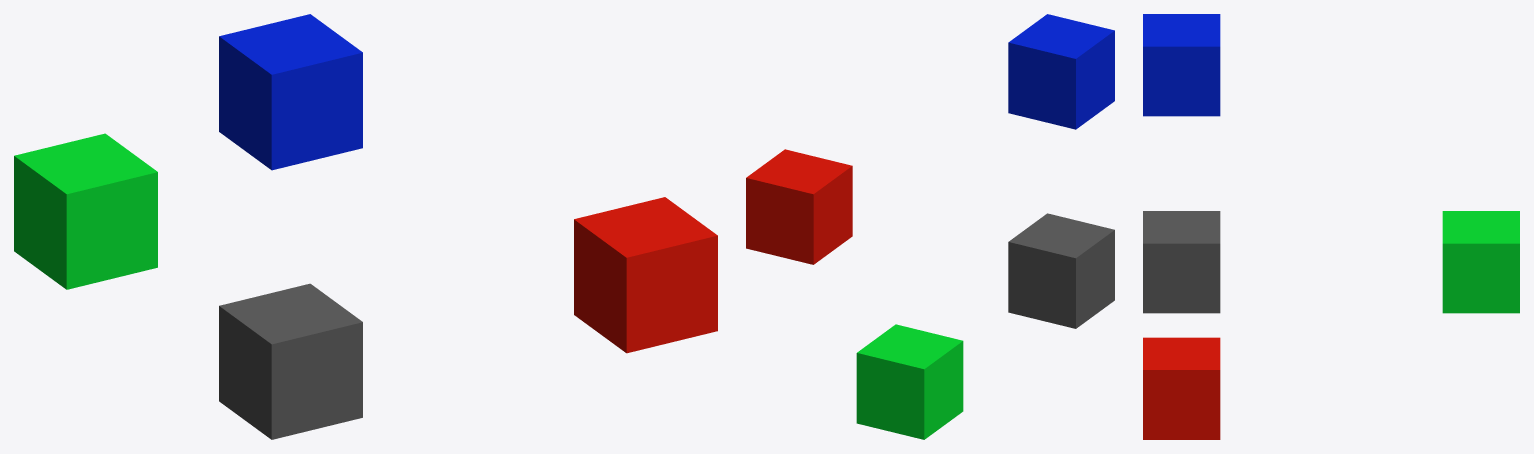
File: cube-coord.fbx
3 renders of one model, left to right at view 1: azimuth 30°, elevation 25°; view 2: azimuth 150°, elevation 25°; view 3: azimuth 270°, elevation 25°, orthographic. The views are drawn at different scales.
Visible parts, largest first — view 1: BlueCube, CenterCube, RedCube, GreenCube; view 2: GreenCube, BlueCube, CenterCube, RedCube; view 3: BlueCube, CenterCube, GreenCube, RedCube.
Part boxes in pixels (x1,y1,x2,y2): BlueCube: [219, 14, 362, 170]; CenterCube: [219, 283, 362, 439]; RedCube: [574, 197, 717, 353]; GreenCube: [14, 133, 157, 289]; GreenCube: [856, 324, 963, 439]; BlueCube: [1008, 14, 1114, 129]; CenterCube: [1008, 213, 1114, 328]; RedCube: [746, 149, 852, 264]; BlueCube: [1143, 14, 1220, 116]; CenterCube: [1143, 211, 1220, 313]; GreenCube: [1442, 211, 1519, 313]; RedCube: [1143, 337, 1220, 439].
Bounding box in the file's own units: 977 × 978 × 764.
